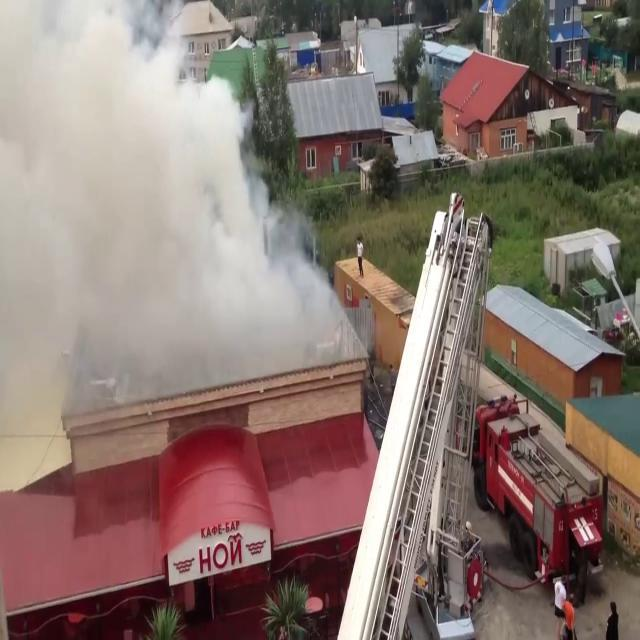Smoke: (0, 2, 342, 401)
